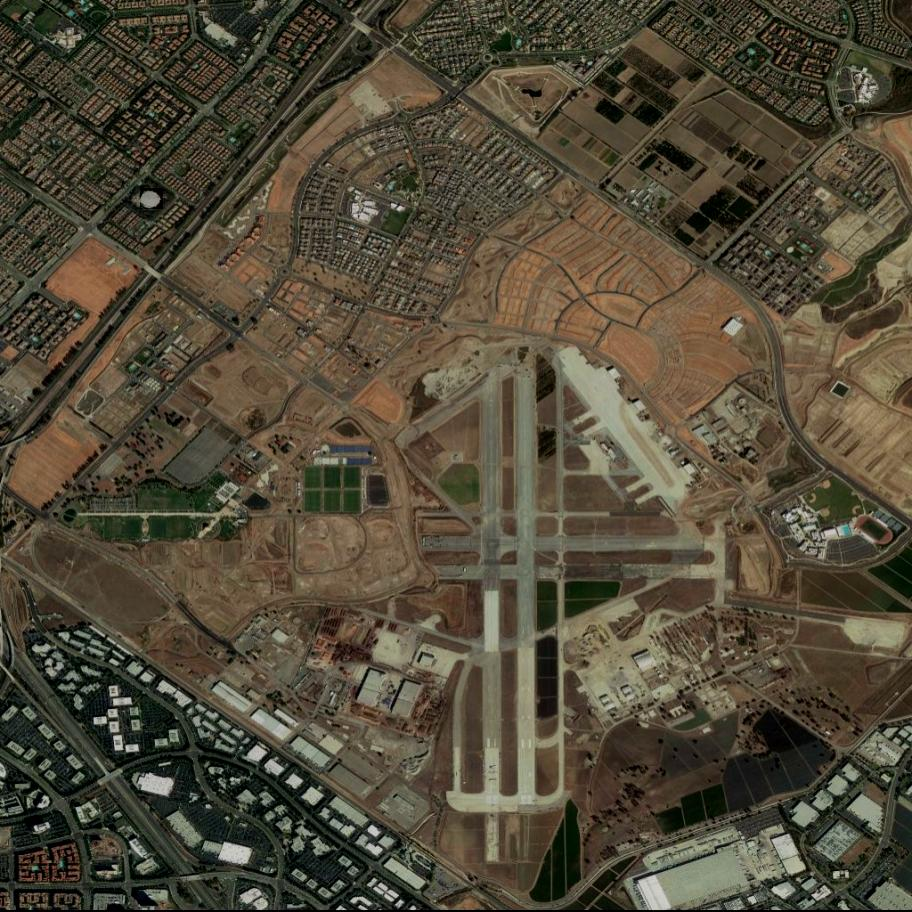storage-tank: (140, 188, 164, 209)
